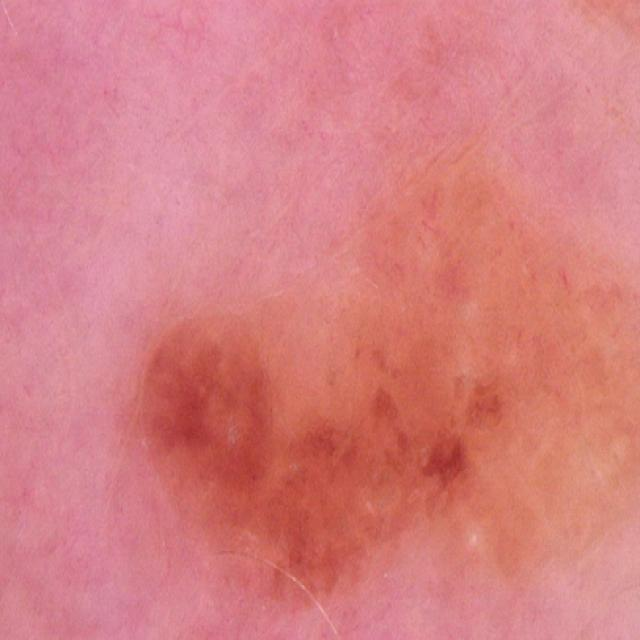Keratosis: (90, 123, 640, 639)
